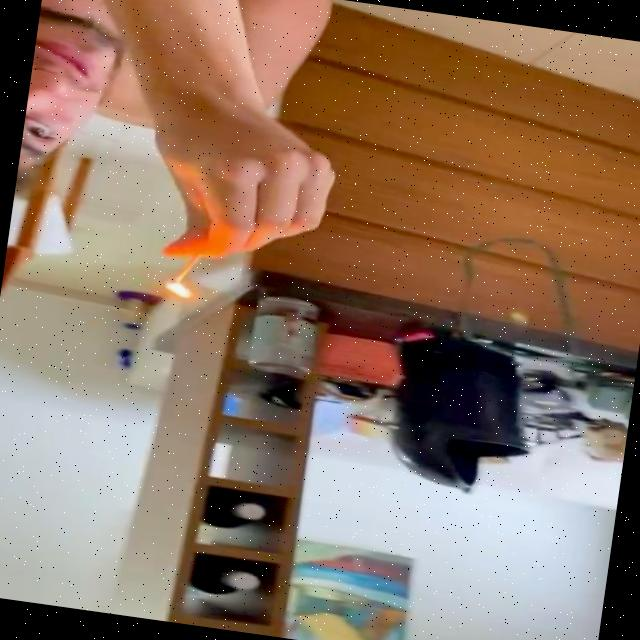fire: (162, 279, 198, 304)
